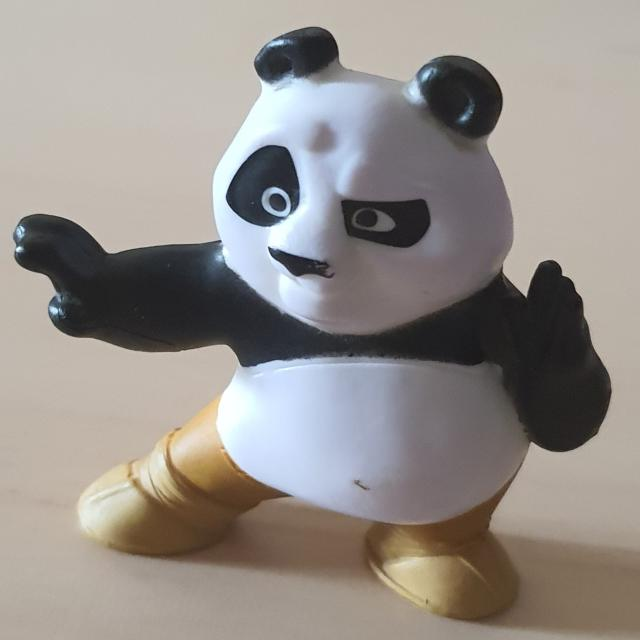Panda: (12, 25, 613, 620)
